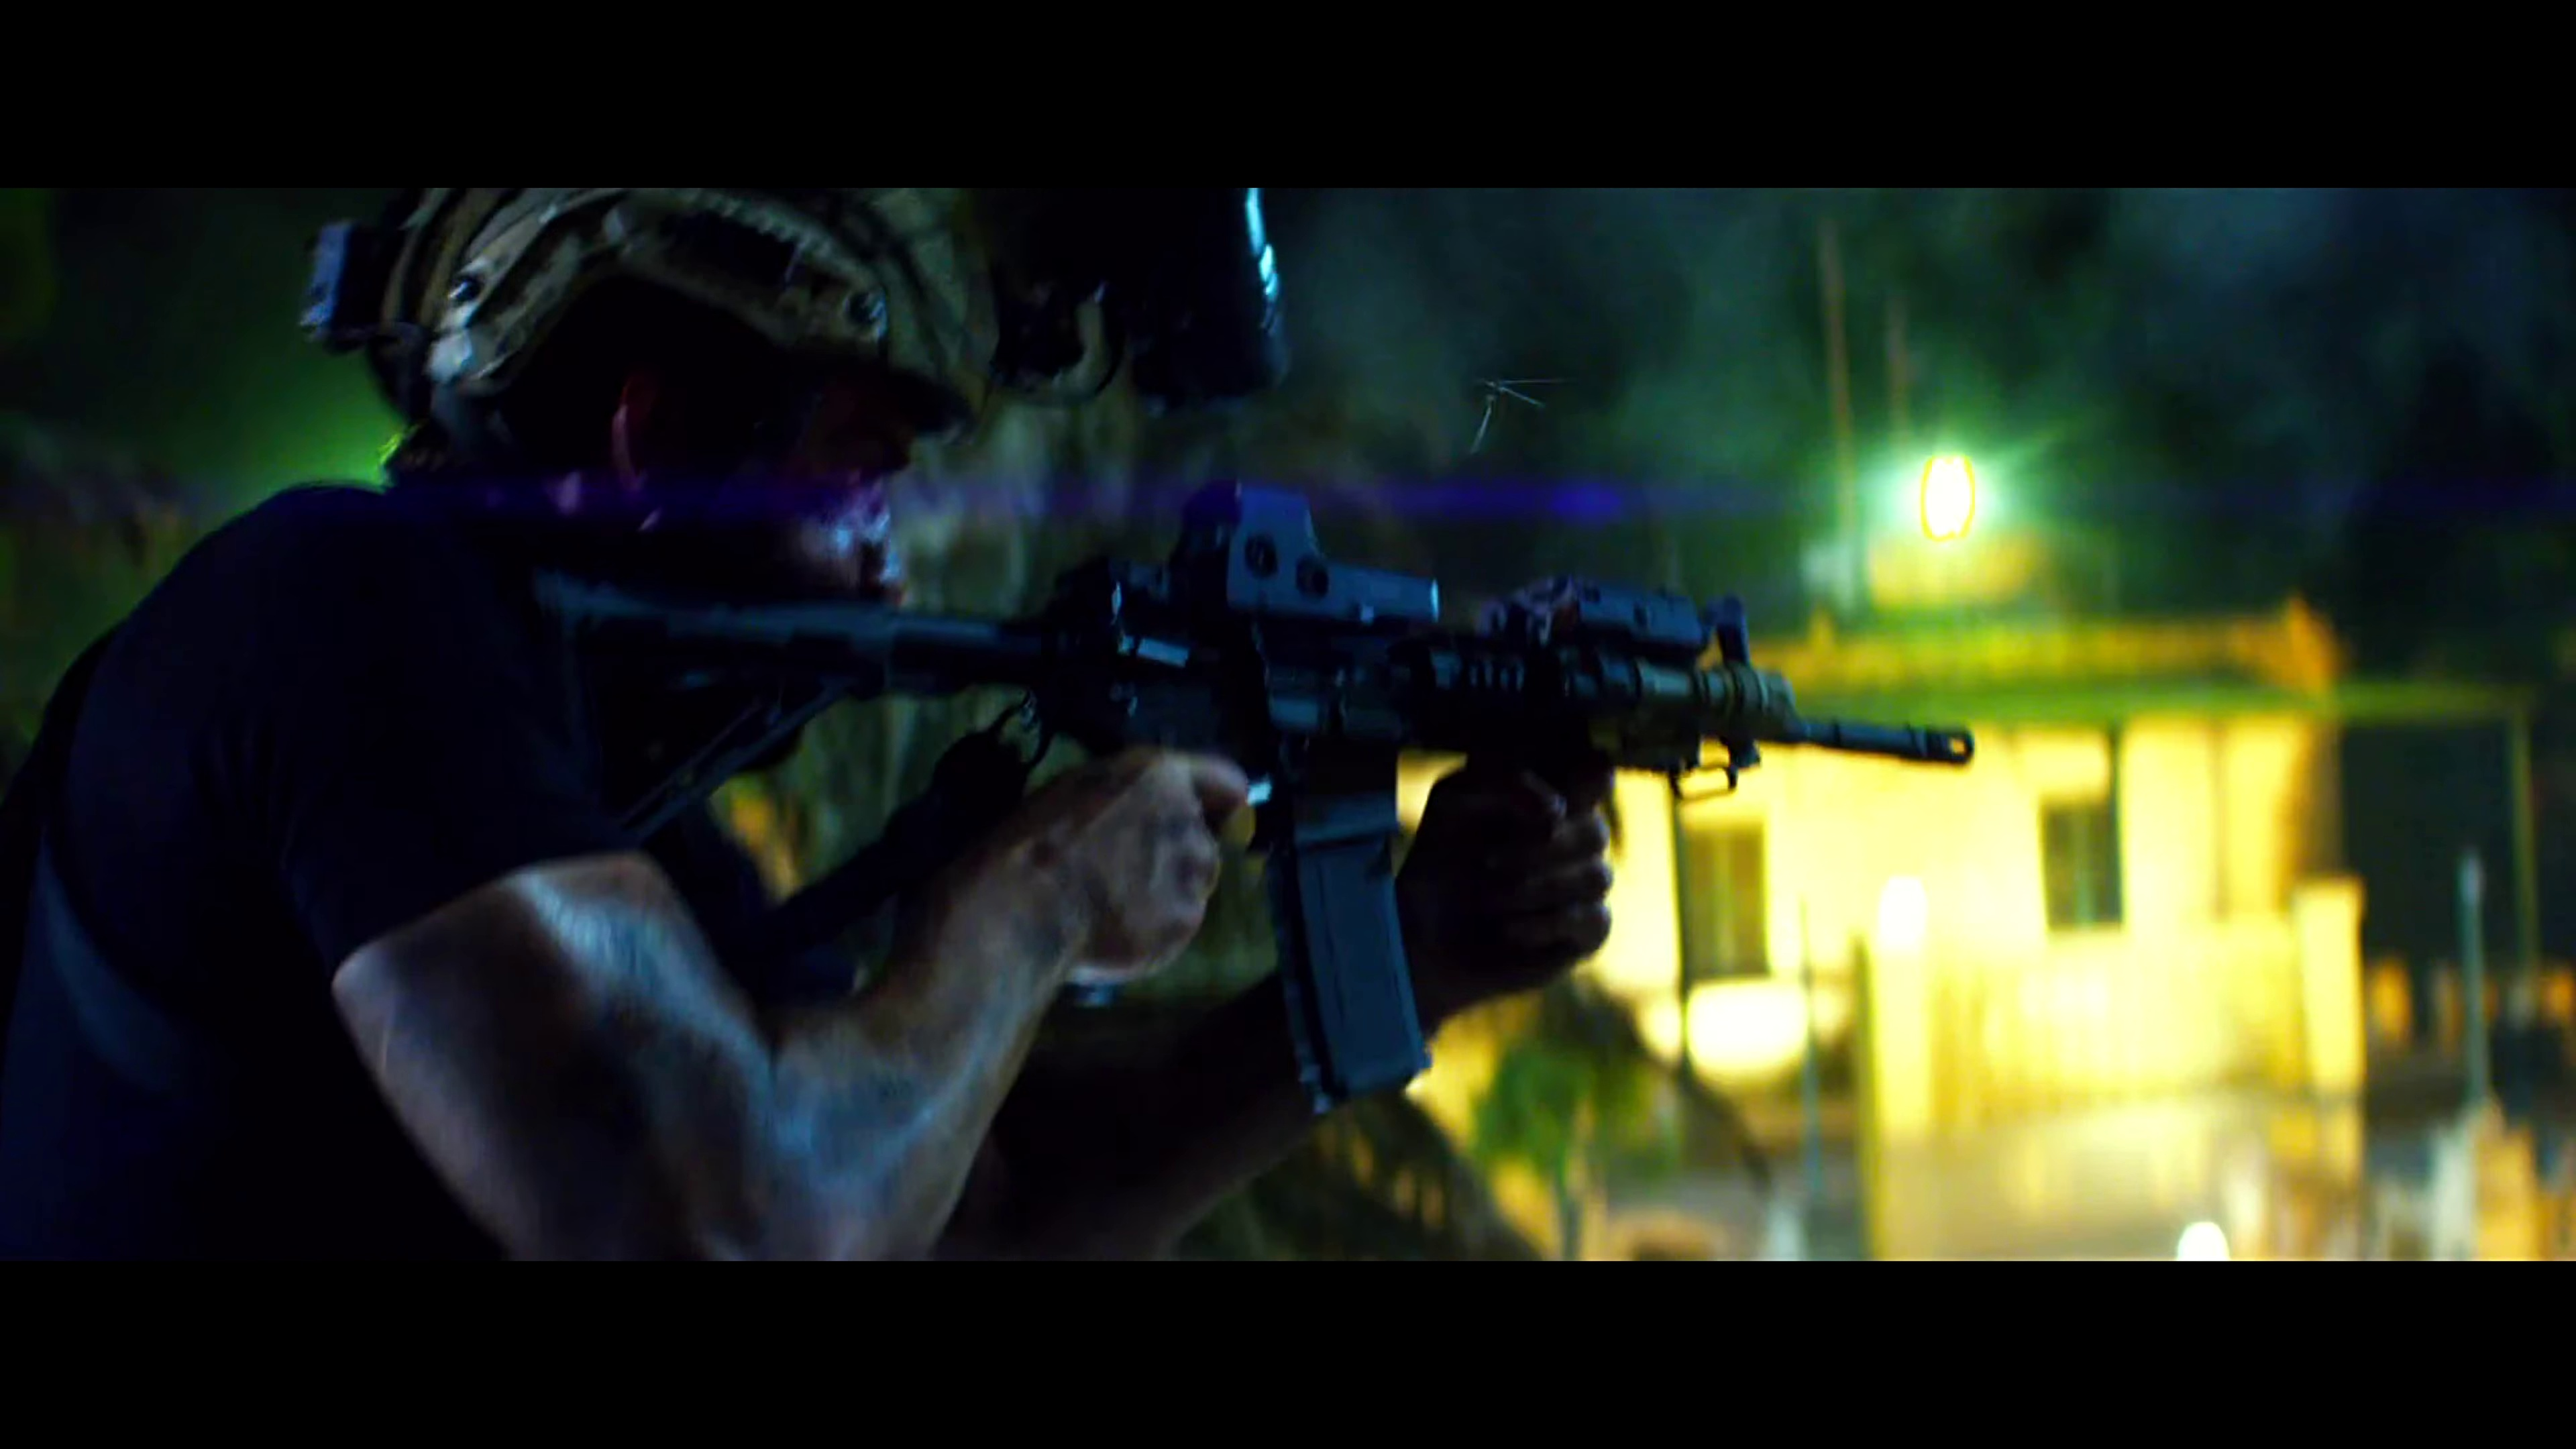gun: (515, 465, 1989, 1134)
p_w_gun: (0, 156, 1996, 1277)
